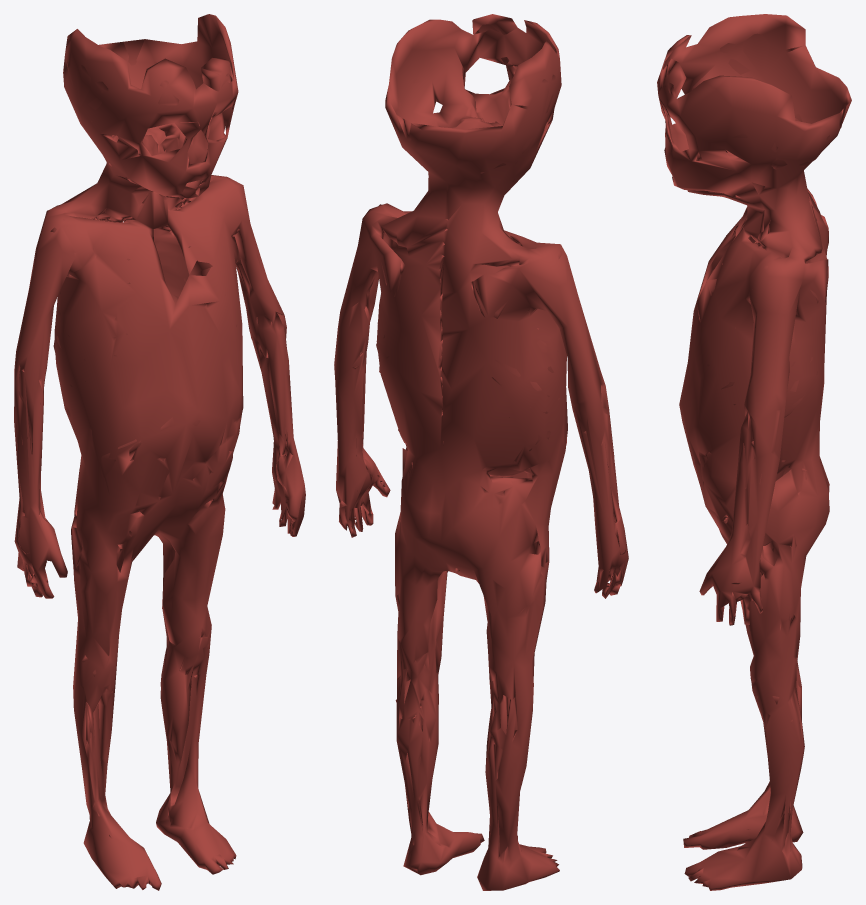
The model's file is pediatric_infant_male.muscular.LOD3.glb.
The picture shows the model from 3 angles, left to right: view 1: azimuth 30°, elevation 25°; view 2: azimuth 150°, elevation 25°; view 3: azimuth 270°, elevation 25°; orthographic projection. The views are drawn at different scales.
Parts seen in each view (by area): view 1: PEDIATRIC.INFANT.MALE.MUSCULAR.MUSCLE; view 2: PEDIATRIC.INFANT.MALE.MUSCULAR.MUSCLE; view 3: PEDIATRIC.INFANT.MALE.MUSCULAR.MUSCLE.
Boxes of the visible parts, box(x1,y1,x2,y2) form: PEDIATRIC.INFANT.MALE.MUSCULAR.MUSCLE: box(14, 14, 305, 890); PEDIATRIC.INFANT.MALE.MUSCULAR.MUSCLE: box(334, 14, 628, 890); PEDIATRIC.INFANT.MALE.MUSCULAR.MUSCLE: box(657, 14, 851, 890).
Bounding box in the file's own units: 0.256 × 0.7306 × 0.1575.
